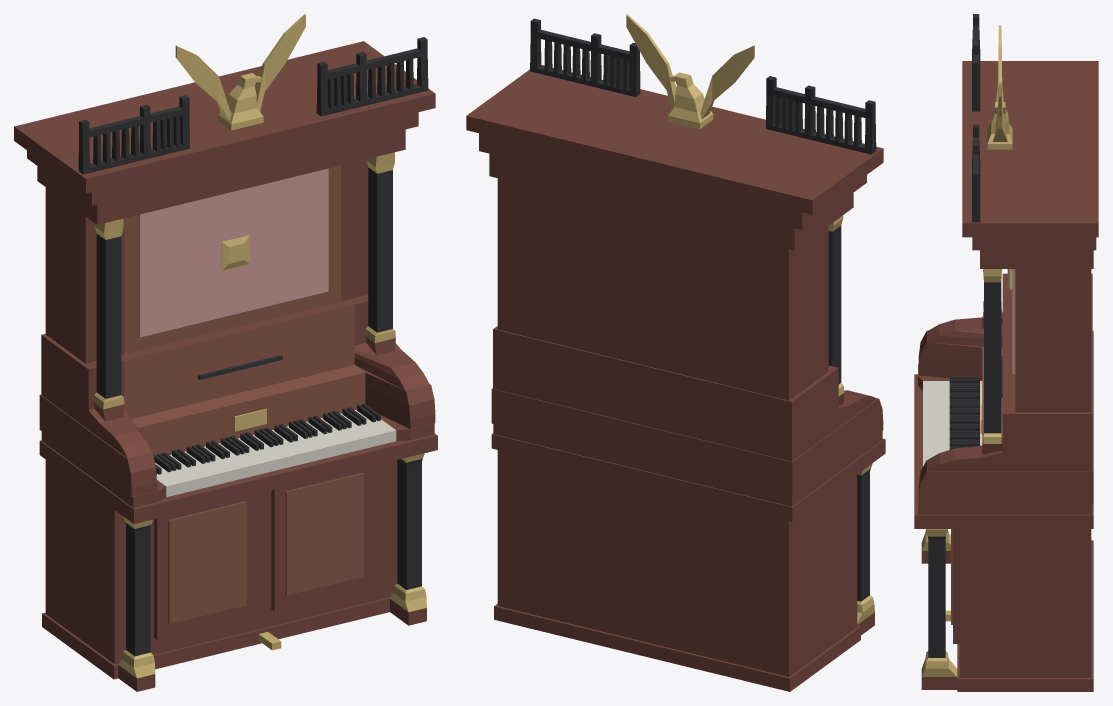
Rendered from pianoforte.fbx.
The picture shows the model from 3 angles, left to right: view 1: azimuth 30°, elevation 25°; view 2: azimuth 150°, elevation 25°; view 3: azimuth 270°, elevation 25°; orthographic projection. The views are drawn at different scales.
Visible parts, largest first — view 1: pianoforte_cuerpo, barandilla_L, barandilla_R, aguila, teclas_negras; view 2: pianoforte_cuerpo, barandilla_R, barandilla_L, aguila; view 3: pianoforte_cuerpo, teclas_negras, aguila, barandilla_R, barandilla_L.
Boxes of the visible parts, x1,y1,x2,y2 form: pianoforte_cuerpo: [14, 41, 437, 691]; barandilla_L: [78, 95, 189, 174]; barandilla_R: [316, 37, 428, 116]; aguila: [175, 14, 305, 130]; teclas_negras: [153, 403, 380, 474]; pianoforte_cuerpo: [466, 69, 885, 691]; barandilla_R: [530, 18, 640, 96]; barandilla_L: [766, 76, 876, 154]; aguila: [626, 14, 754, 129]; pianoforte_cuerpo: [914, 61, 1098, 691]; teclas_negras: [949, 376, 979, 449]; aguila: [987, 25, 1012, 149]; barandilla_R: [972, 124, 980, 222]; barandilla_L: [972, 14, 980, 111].
Bounding box in the file's own units: 152 × 248 × 73.
